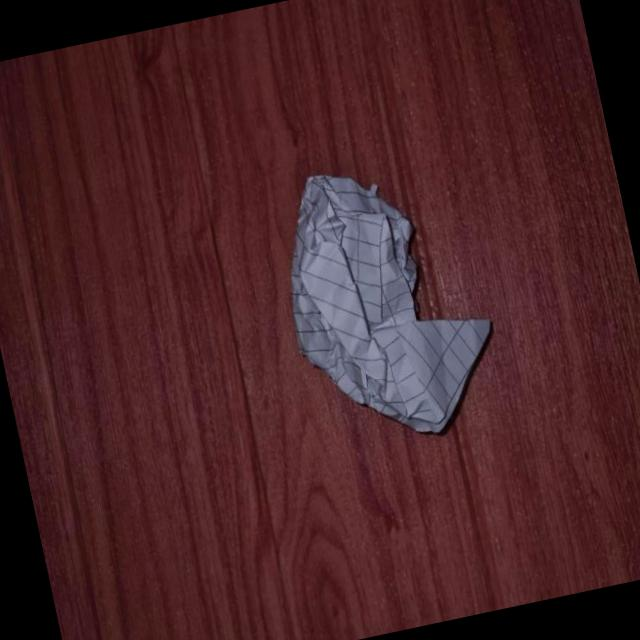cardboard paper: (286, 171, 491, 435)
